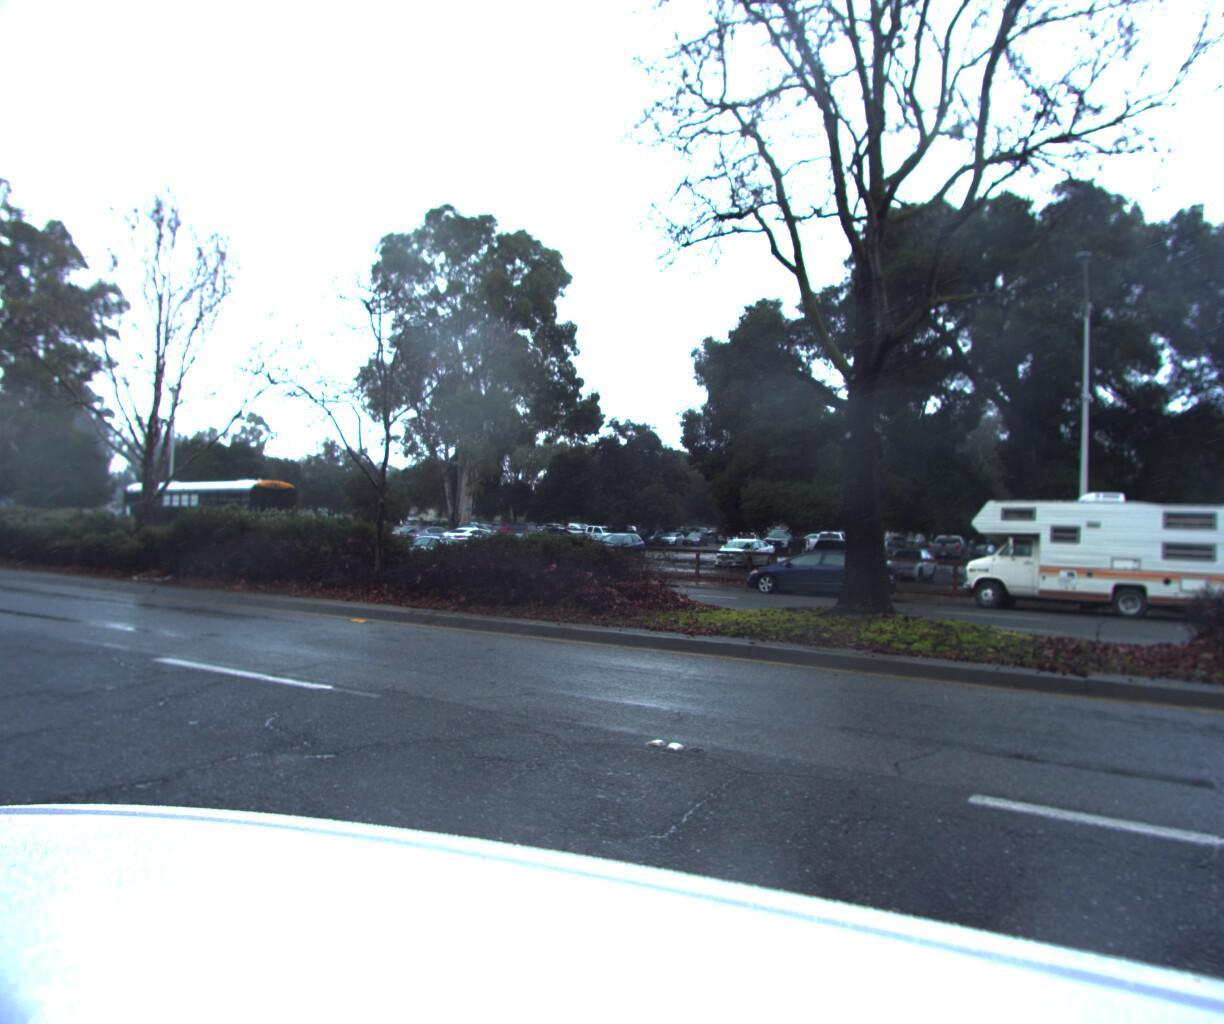bus: (105, 478, 309, 560)
car: (741, 547, 901, 607), (373, 532, 491, 577), (871, 539, 942, 582), (583, 530, 658, 565), (434, 525, 513, 556), (1219, 530, 1224, 593)
other_vehicle: (958, 483, 1224, 624)
